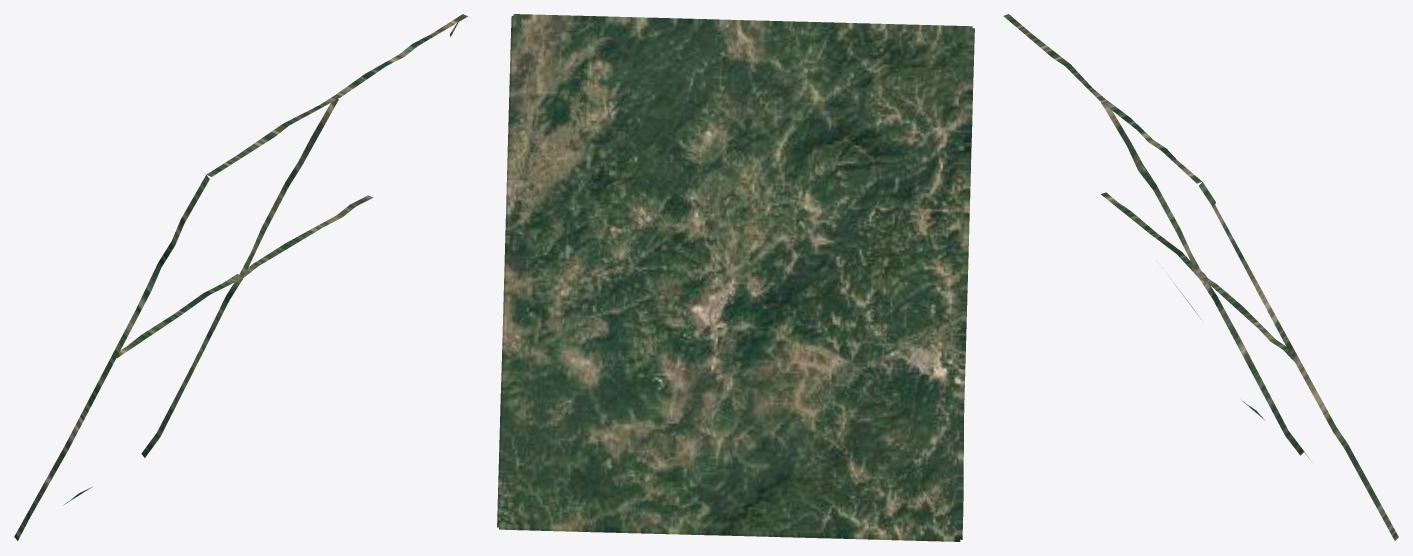
3 views of the same model, side by side, from view 1: azimuth 30°, elevation 25°; view 2: azimuth 150°, elevation 25°; view 3: azimuth 270°, elevation 25° (orthographic). The views are drawn at different scales.
Size of the model in its own units: 79671 by 71093 by 63285.
1 material, 1 textured.
